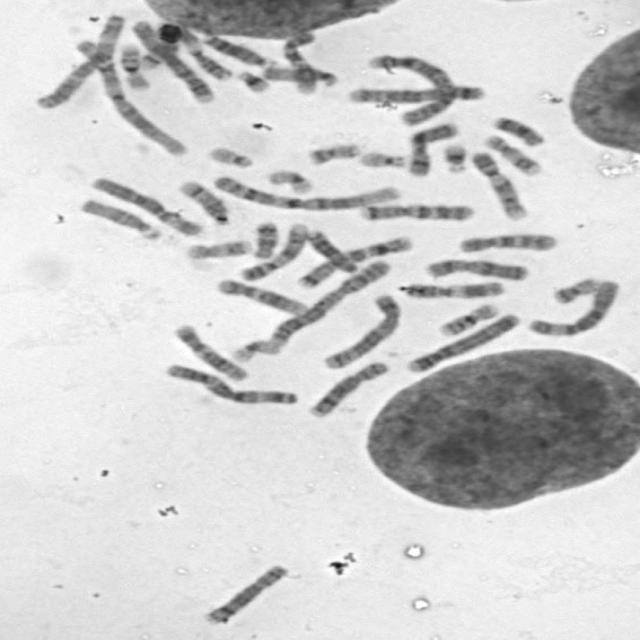A1: (66, 34, 190, 158), (206, 170, 402, 212)
A2: (264, 256, 394, 347), (362, 49, 457, 126)
A3: (30, 8, 128, 109), (157, 358, 301, 406)
B4: (401, 307, 525, 375), (126, 15, 218, 106)
B5: (317, 290, 404, 370), (340, 80, 489, 105)
C10: (276, 26, 320, 96), (454, 228, 561, 254)
C11: (167, 18, 234, 82), (397, 277, 507, 300)
C12: (167, 319, 251, 383), (211, 274, 310, 316)
C6: (87, 173, 208, 238), (523, 274, 623, 338)
C7: (291, 232, 414, 289), (356, 198, 478, 223)
C8: (196, 560, 292, 626), (302, 356, 393, 419)
C9: (232, 218, 312, 283), (466, 147, 532, 221)
D13: (197, 30, 280, 68), (302, 225, 364, 274)
D14: (133, 11, 202, 72), (172, 176, 232, 226)
D15: (74, 194, 166, 242), (257, 60, 341, 89)
E16: (434, 298, 501, 337), (113, 38, 151, 91)
E17: (479, 130, 545, 177), (181, 235, 255, 260)
E18: (487, 111, 548, 147), (248, 217, 281, 259)
F19: (226, 334, 282, 364), (262, 166, 316, 196)
F20: (547, 272, 603, 305), (302, 138, 364, 166)
G21: (232, 66, 274, 94), (436, 140, 470, 174)
G22: (202, 142, 257, 169), (353, 147, 410, 170)
X: (400, 119, 460, 178), (421, 254, 532, 282)
